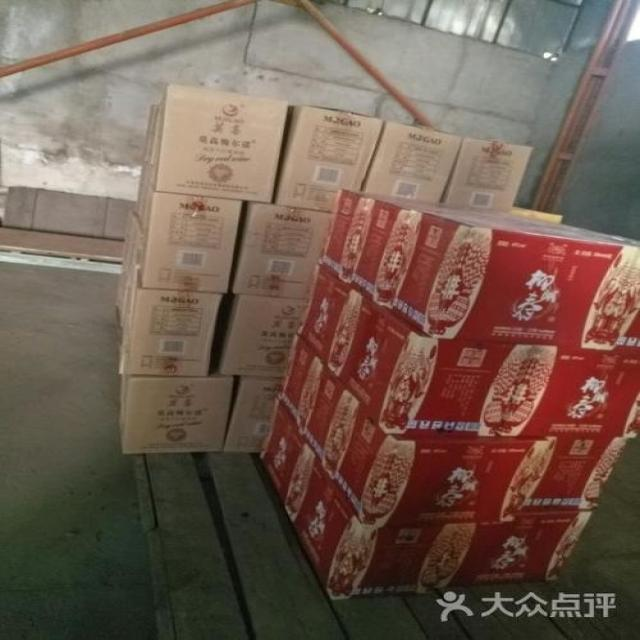box: (316, 383, 556, 523), (389, 213, 640, 346), (352, 200, 595, 308), (297, 462, 489, 598), (342, 303, 536, 437), (320, 190, 544, 287), (156, 84, 289, 203), (499, 343, 640, 439), (273, 104, 385, 212), (138, 192, 243, 295), (232, 202, 334, 299), (294, 265, 376, 380), (122, 370, 234, 453), (475, 510, 595, 587), (128, 287, 224, 375), (362, 121, 465, 203), (257, 401, 323, 528), (276, 337, 342, 451), (216, 296, 308, 377), (525, 439, 628, 511), (443, 138, 532, 212), (224, 376, 285, 453), (621, 310, 640, 350)
